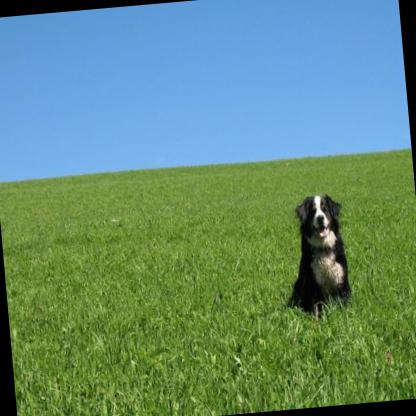Bernese_mountain_dog: (278, 191, 351, 320)
